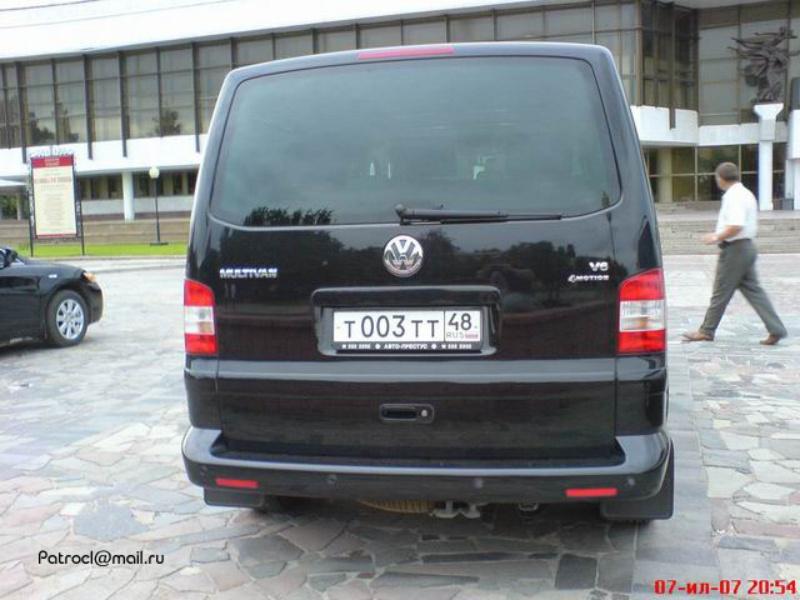car: (180, 42, 675, 523), (1, 246, 103, 349)
person: (683, 161, 787, 345)
plate: (334, 311, 480, 341)
